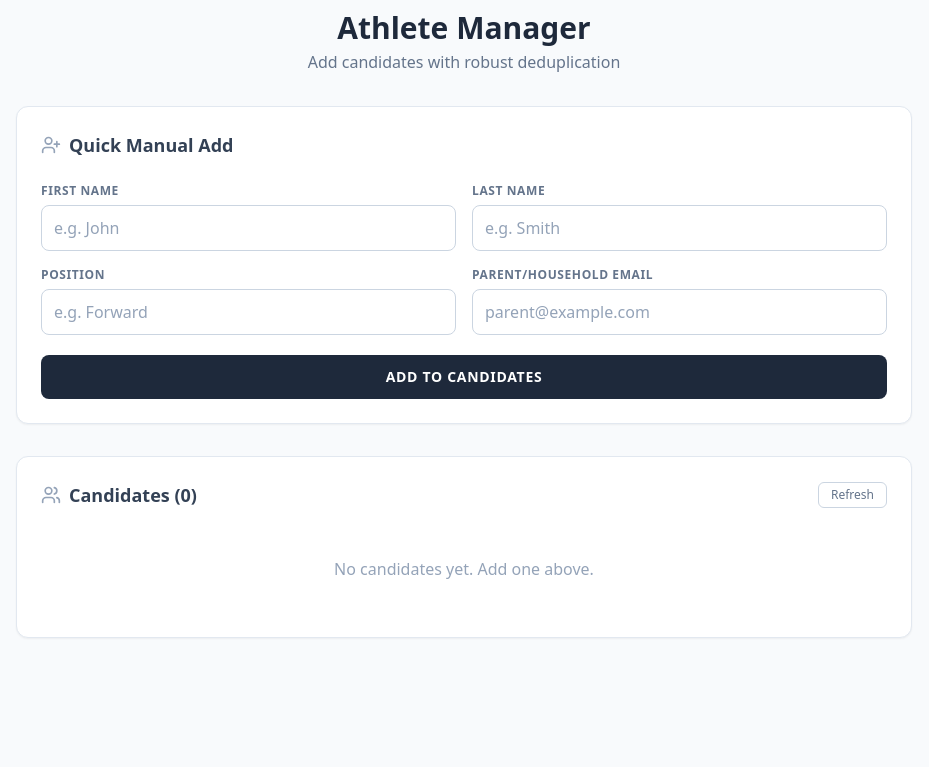
it: Home Page › should show error message on duplicate detection
In the field with placeholder "e.g. John": (248, 228) x1=41 y1=205 x2=456 y2=251, type "John"
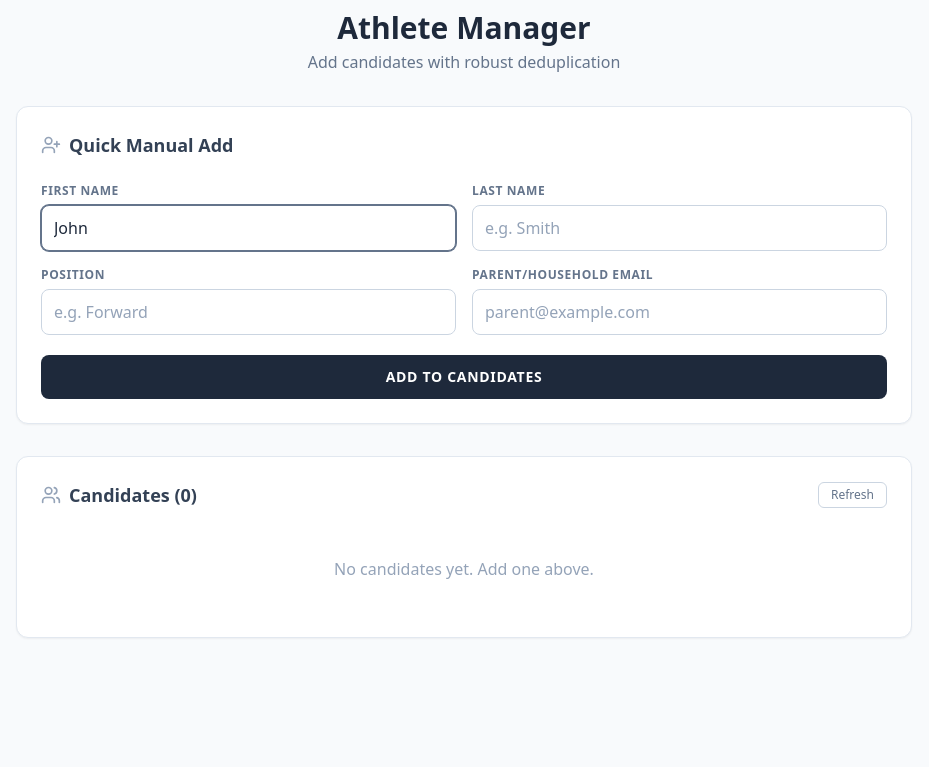
In the field with placeholder "e.g. Smith": (680, 228) x1=472 y1=205 x2=887 y2=251, type "Smith"
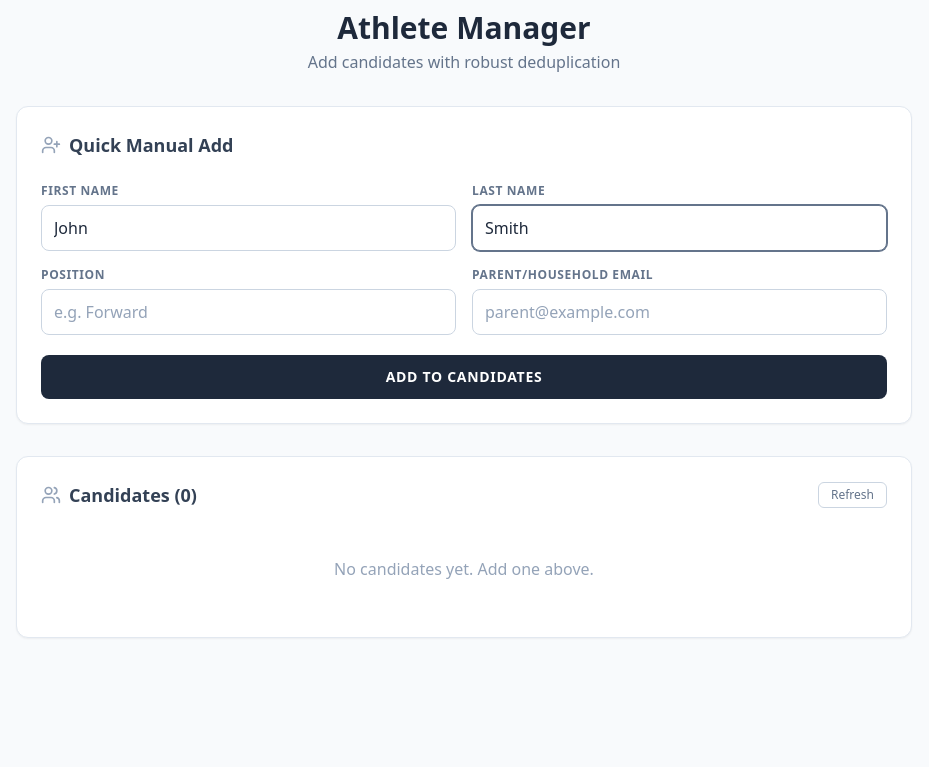
In the field with placeholder "e.g. Forward": (248, 312) x1=41 y1=289 x2=456 y2=335, type "Forward"
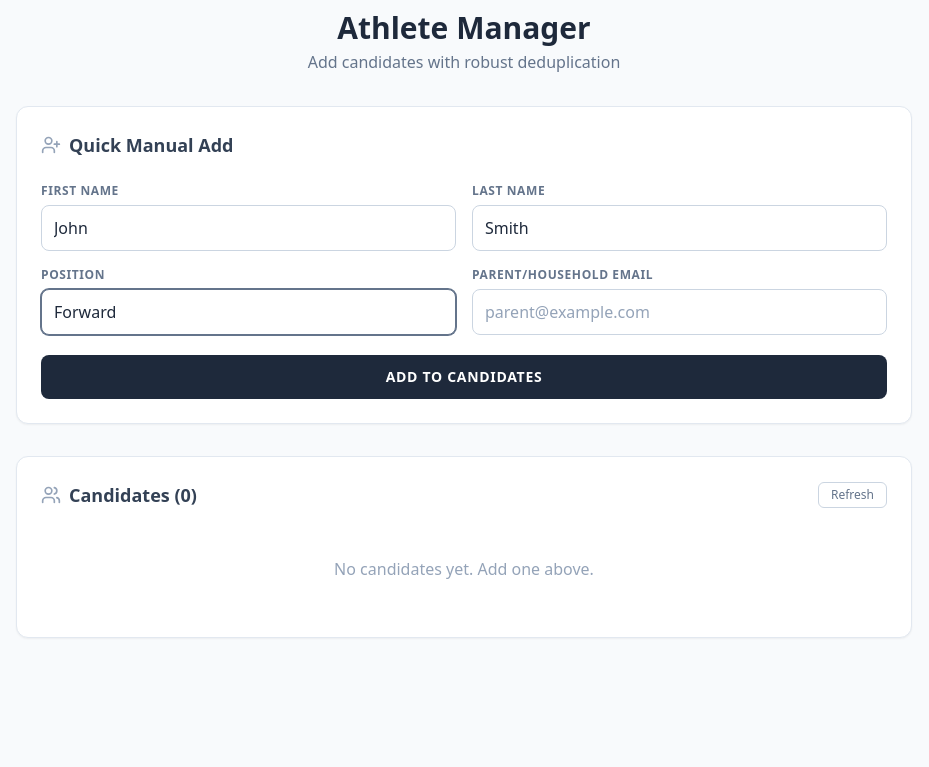
In the field with placeholder "parent@example.com": (680, 312) x1=472 y1=289 x2=887 y2=335, type "parent@test.com"
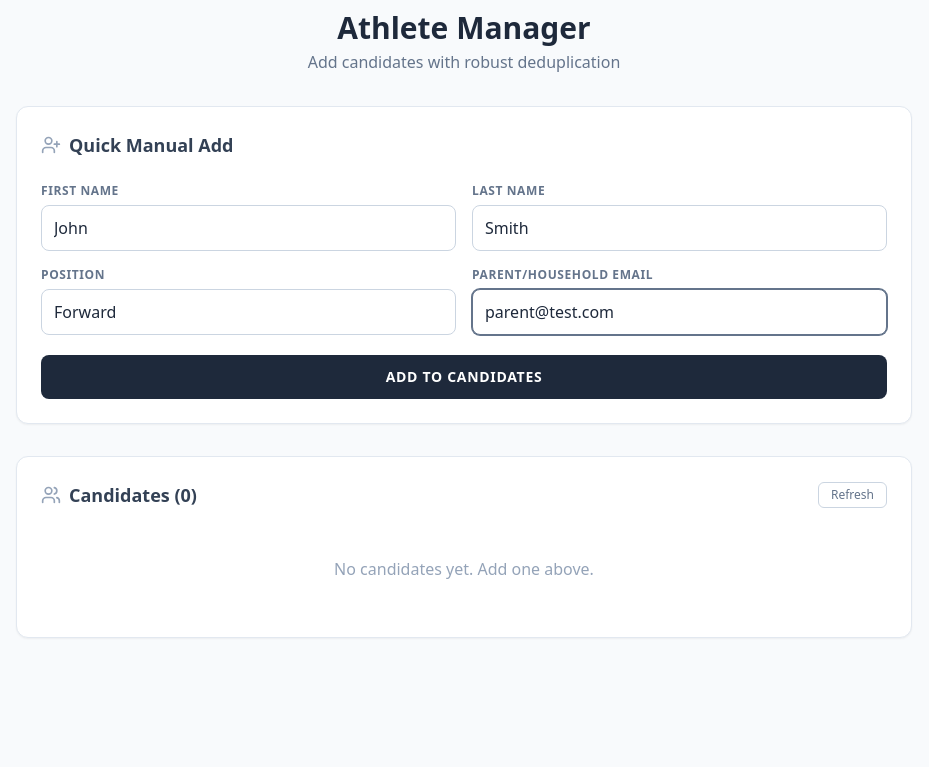
Click the button "Add to Candidates": (464, 377) x1=41 y1=355 x2=887 y2=399
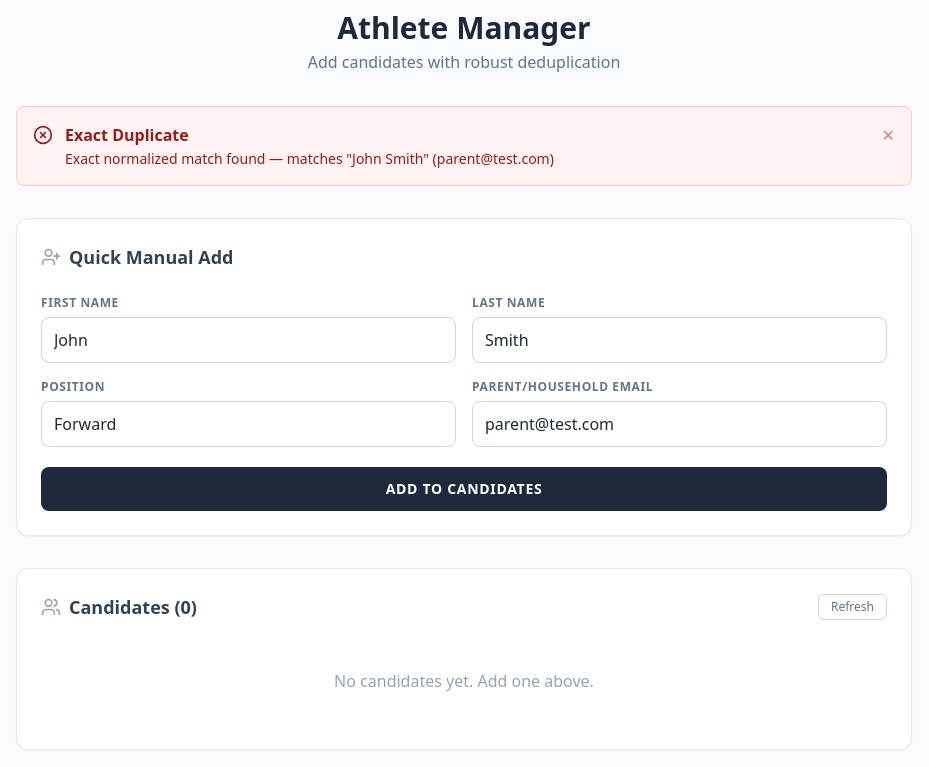
Expected: the text "Exact Duplicate" is shown, x1=65 y1=124 x2=189 y2=146
